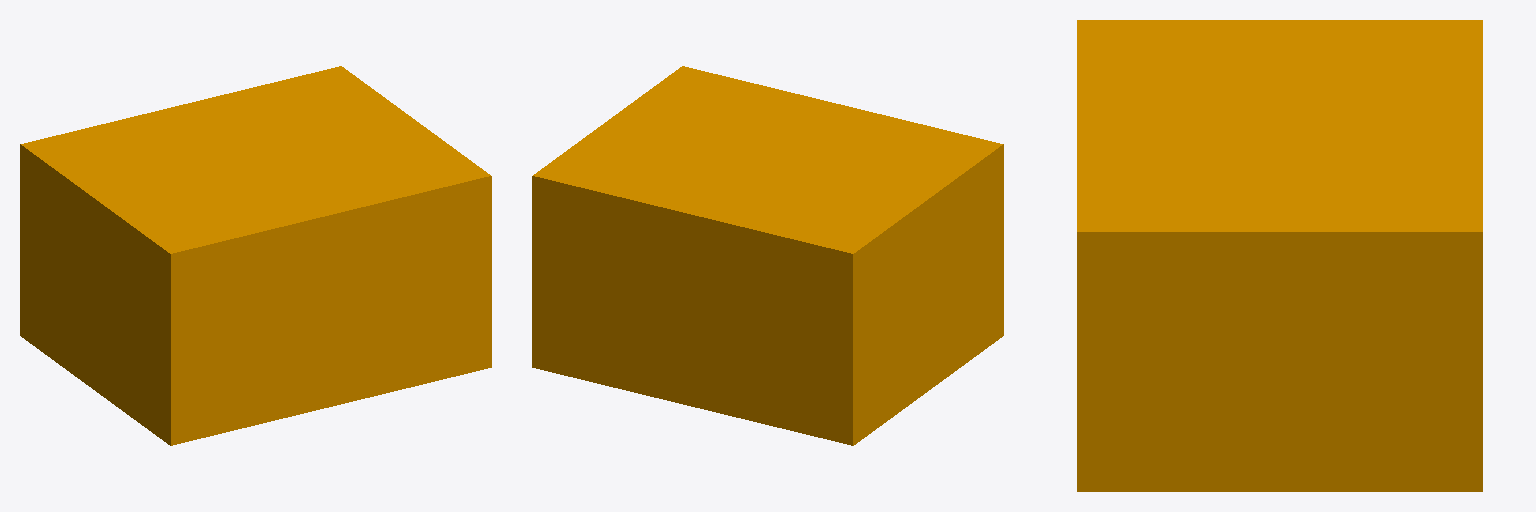
URDF robot description (2x2):
<?xml version='1.0' encoding='UTF-8'?>
<robot name="2x2">
  <link name="base_link">
    <inertial>
      <origin xyz="0.0 0.0 0.0" rpy="0.0 0.0 0.0"/>
      <mass value="0.01"/>
      <inertia ixx="0.1" ixy="0.0" ixz="0.0" iyy="0.1" iyz="0.0" izz="0.1"/>
    </inertial>
    <visual>
      <geometry>
        <box size="0.021 0.017 0.012"/>
      </geometry>
      <material name=""/>
      <origin xyz="0.0 0.0 0.0" rpy="0.0 0.0 0.0"/>
    </visual>
    <collision>
      <geometry>
        <box size="0.021 0.017 0.012"/>
      </geometry>
      <origin xyz="0.0 0.0 0.0" rpy="0.0 0.0 0.0"/>
    </collision>
  </link>
  <material name="">
    <color rgba="0.695 0.031 0.05  1.   "/>
  </material>
  <contact>
    <lateral_friction value="1.0"/>
    <rolling_friction value="0.0"/>
    <contact_cfm value="0.0"/>
    <contact_erp value="1.0"/>
  </contact>
</robot>

--- Facts derived from the render (not from the file) ---
3 views of the same robot in one strip: view 1: azimuth 30°, elevation 25°; view 2: azimuth 150°, elevation 25°; view 3: azimuth 270°, elevation 25° (orthographic).
Robot: 2x2 — 1 links, 0 joints (none); root link base_link; default pose: every joint at zero.
Visible links, largest first — view 1: base_link; view 2: base_link; view 3: base_link.
Boxes of the visible links, bbox=[...] form: base_link: bbox=[20, 66, 491, 445]; base_link: bbox=[532, 66, 1003, 445]; base_link: bbox=[1077, 20, 1482, 491].
Size in the robot's own frame: 0.021 by 0.017 by 0.012 metres.
Geometry: primitives only (box / cylinder / sphere), no mesh files.